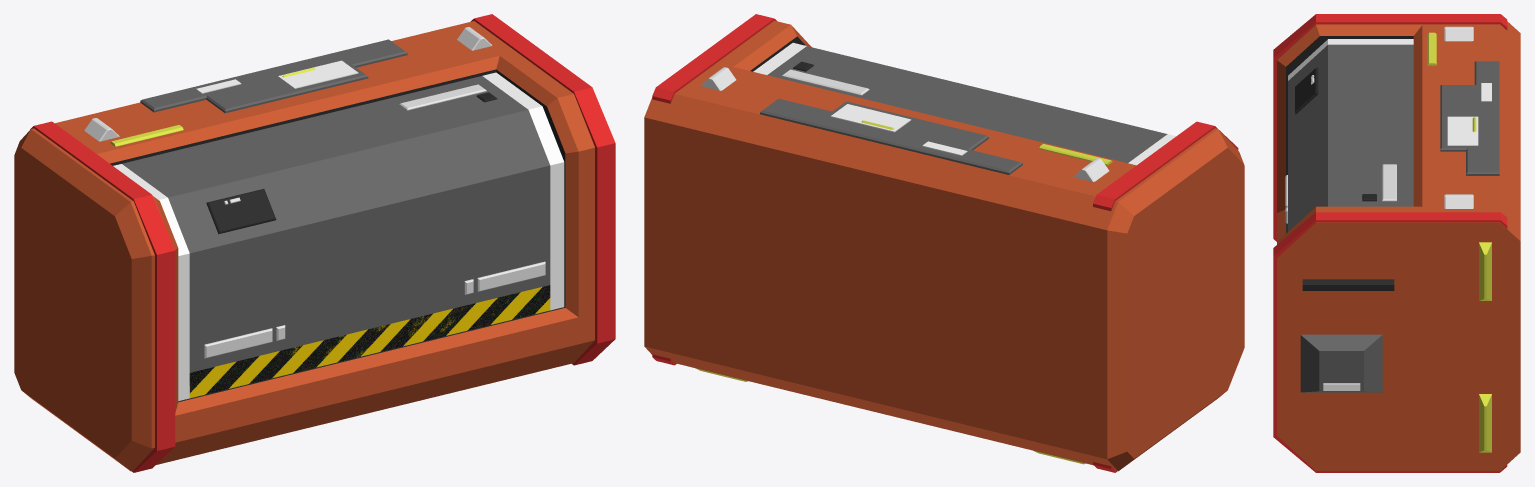
File: cargoFlipped Collider.fbx
The picture shows the model from 3 angles, left to right: view 1: azimuth 30°, elevation 25°; view 2: azimuth 150°, elevation 25°; view 3: azimuth 270°, elevation 25°; orthographic projection. The views are drawn at different scales.
Visible parts, largest first — view 1: Shell, Hatch; view 2: Shell, Hatch; view 3: Shell, Hatch.
Part boxes in pixels (box(x1,y1,x2,y2)): Shell: box(14, 14, 615, 472); Hatch: box(113, 72, 564, 400); Shell: box(644, 14, 1244, 472); Hatch: box(753, 42, 1175, 165); Shell: box(1273, 14, 1520, 472); Hatch: box(1285, 39, 1413, 231).
Bounding box in the file's own units: 591 × 328 × 277.
